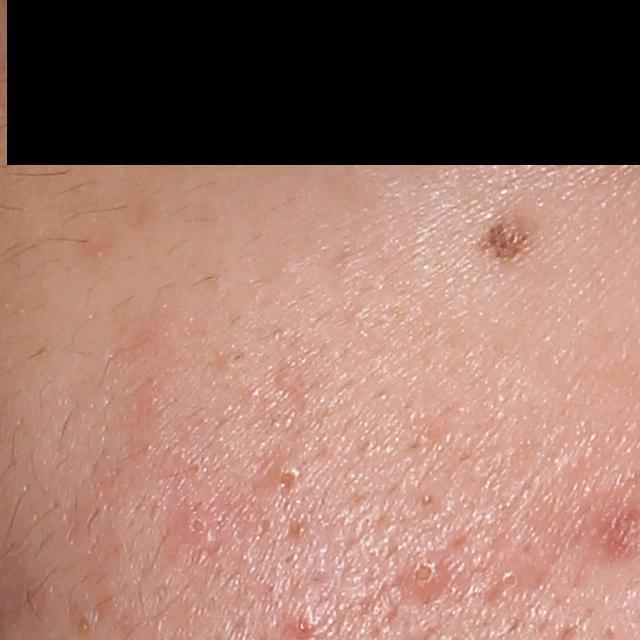comedo: (400, 552, 445, 600), (269, 458, 304, 497), (181, 512, 213, 542)
nevus: (464, 211, 537, 264)
